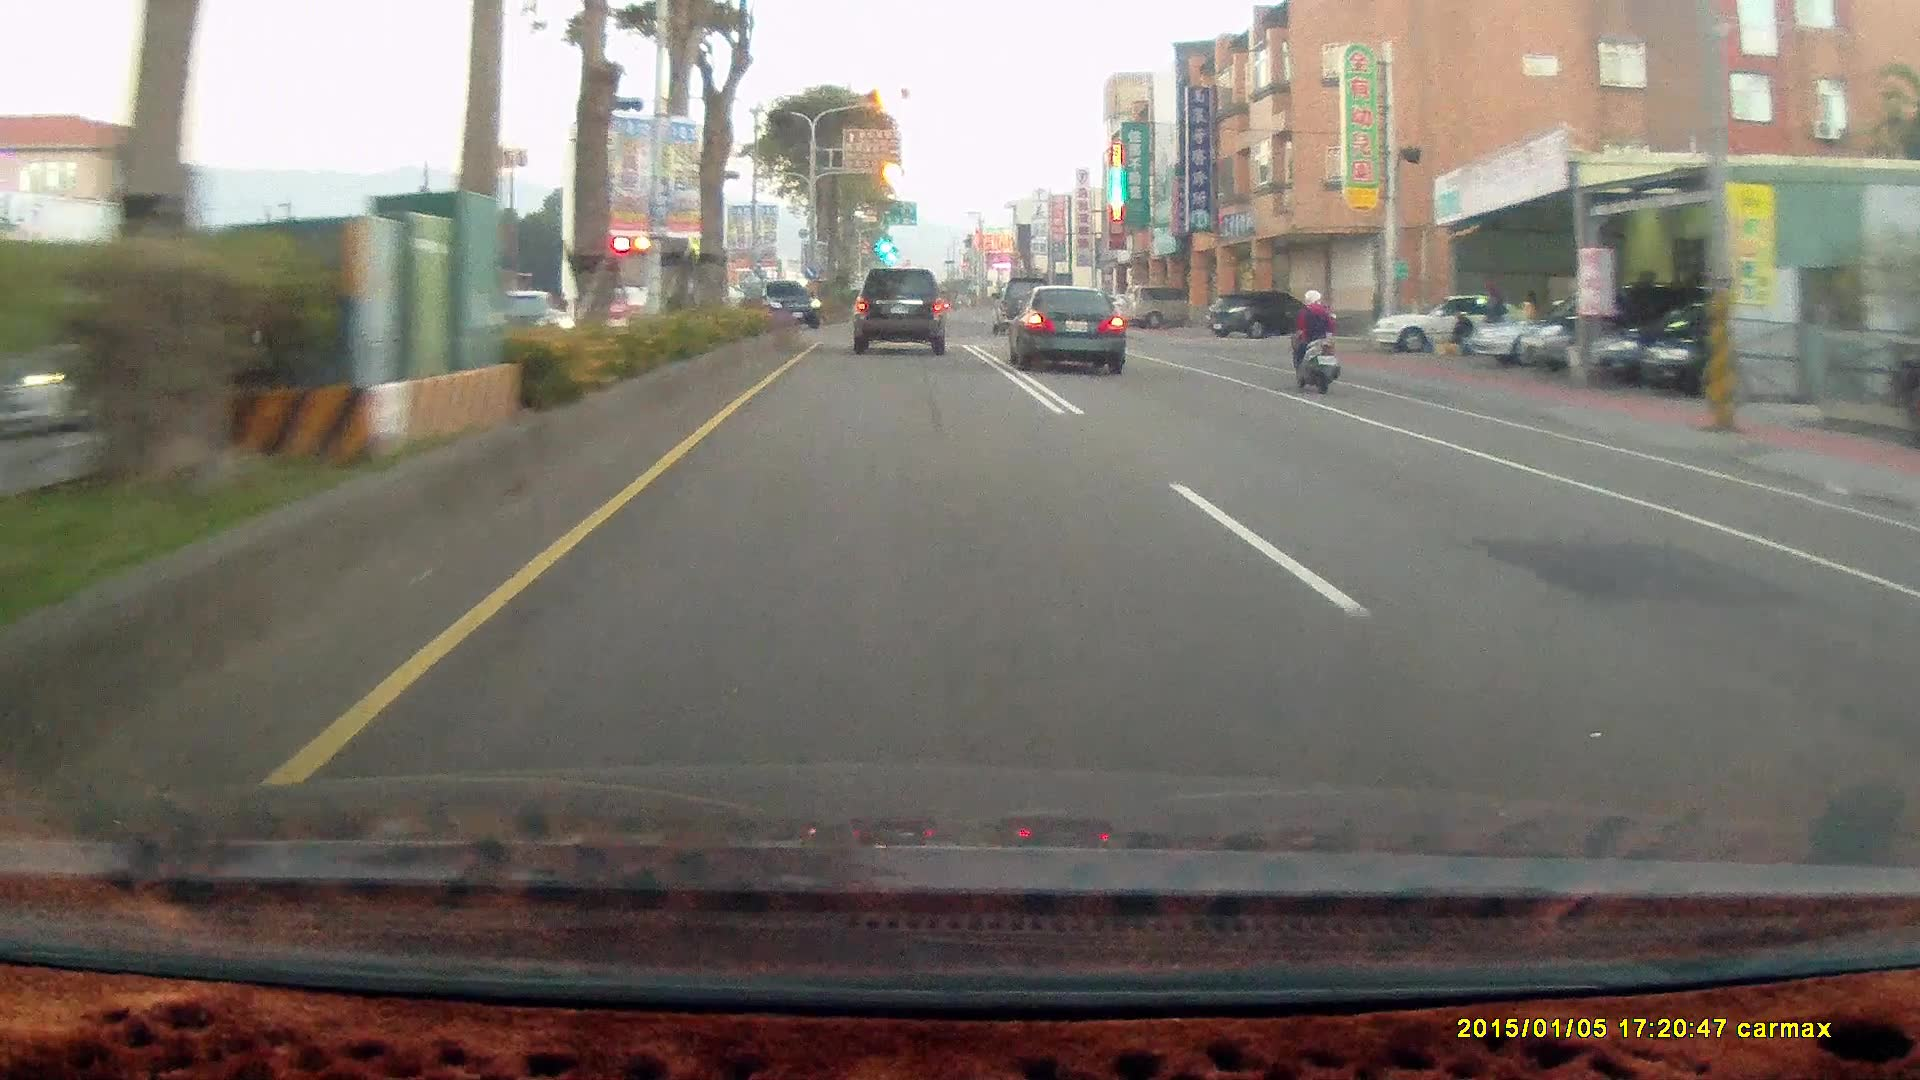pedestrian: (1482, 281, 1504, 346), (1449, 309, 1476, 356)
rider: (1275, 276, 1351, 405), (1283, 287, 1341, 394)
vehicle: (1646, 302, 1853, 399), (1587, 303, 1789, 389), (1517, 286, 1690, 371), (592, 232, 719, 338), (1366, 286, 1542, 359), (1471, 296, 1644, 366), (1019, 291, 1134, 388), (1004, 283, 1125, 373), (1371, 291, 1534, 353), (852, 272, 951, 363), (851, 268, 945, 354), (1209, 292, 1324, 347), (1204, 289, 1319, 339), (745, 280, 825, 333), (1121, 283, 1209, 330), (746, 279, 823, 329), (988, 278, 1053, 334)
